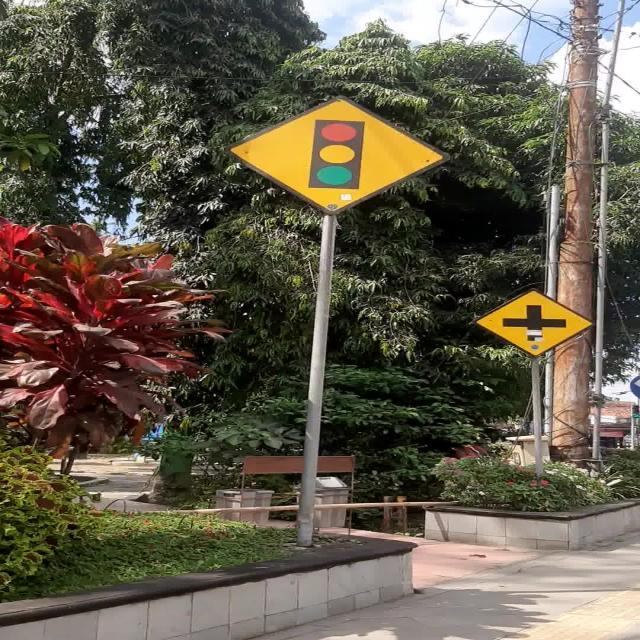Lampu Lalu Lintas: (225, 95, 450, 215)
